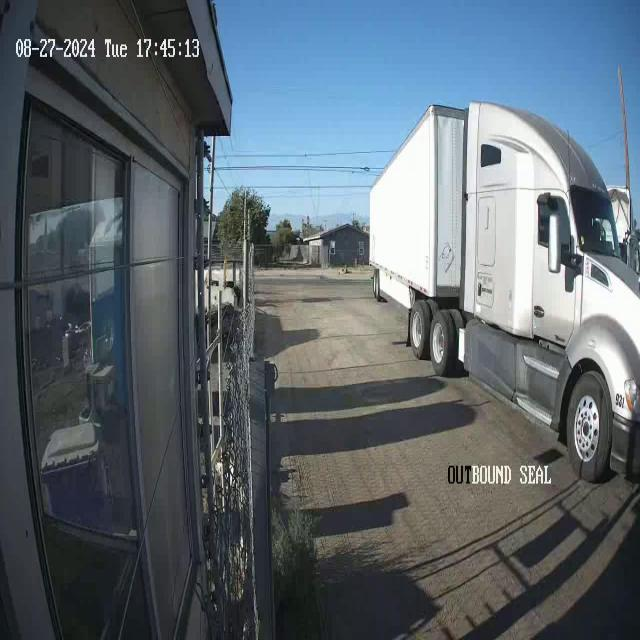TRUCK_CONTAINER: (368, 98, 639, 484)
